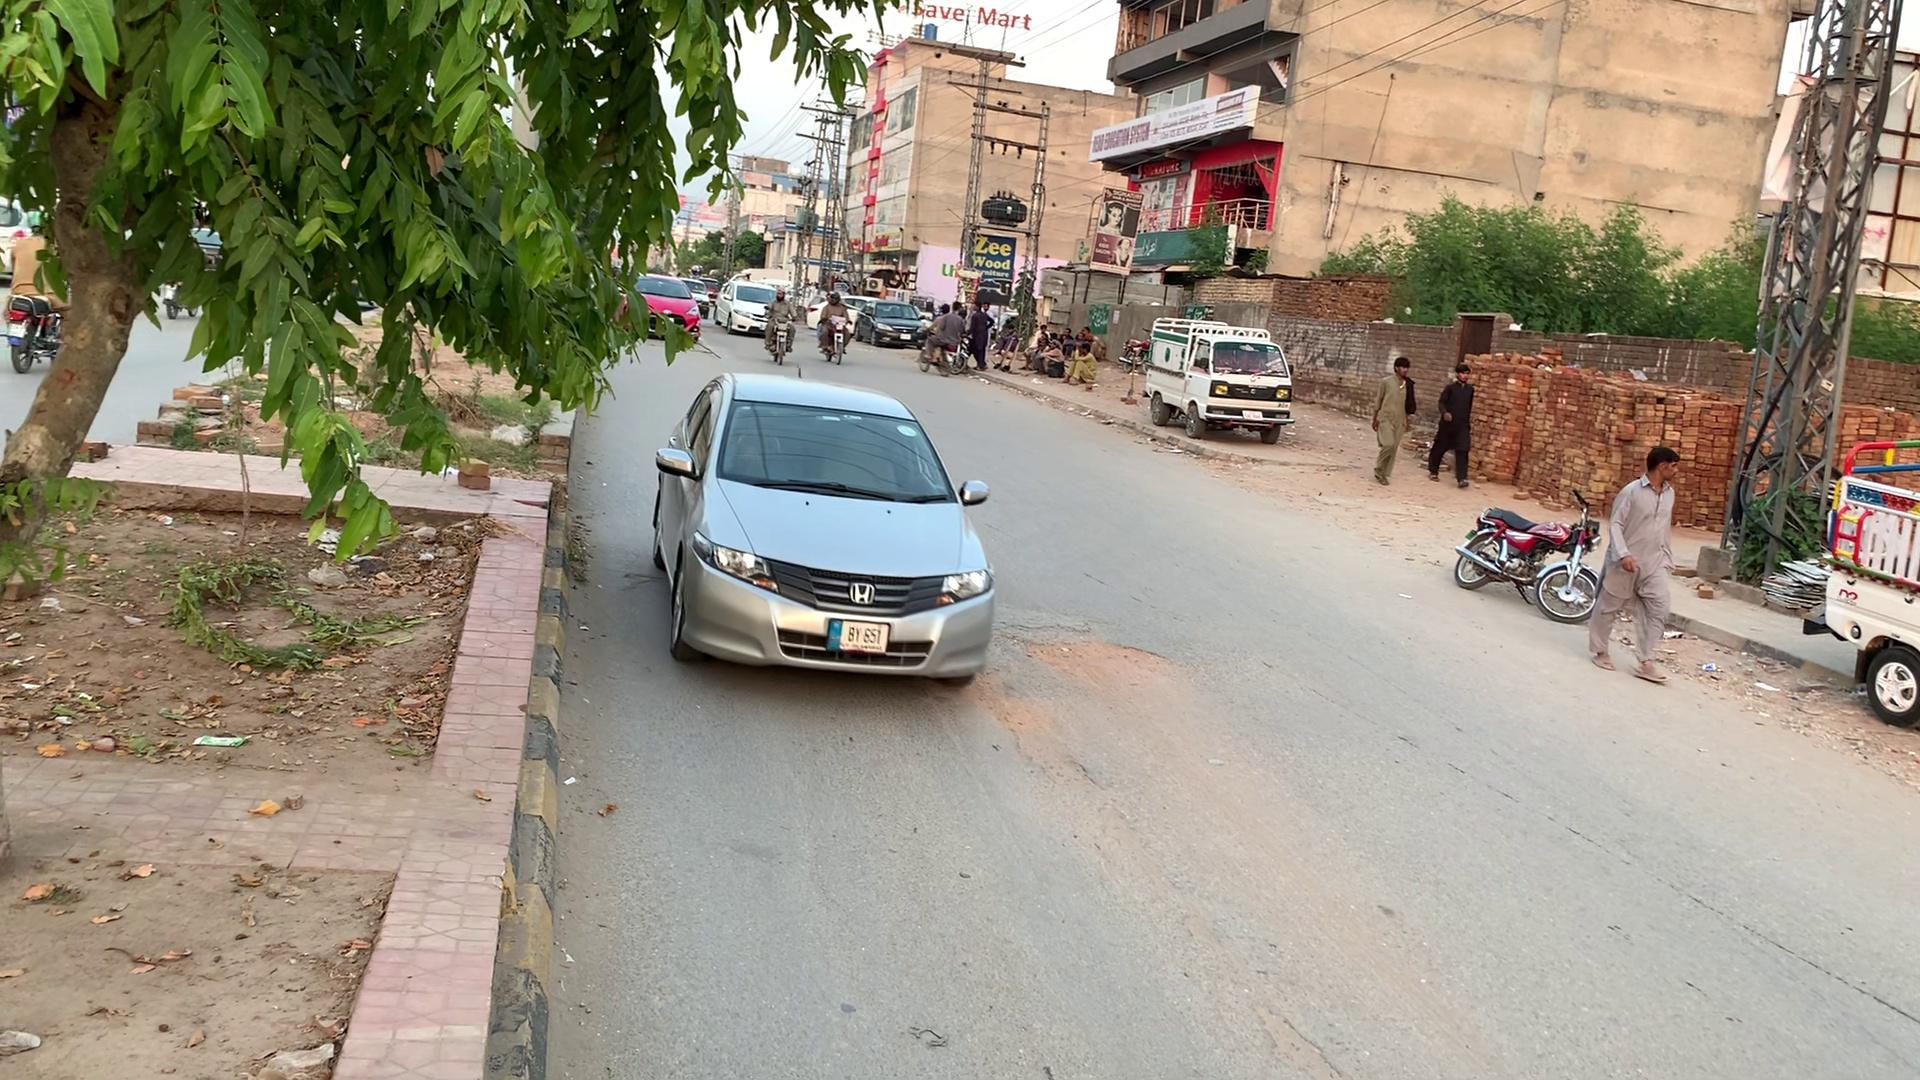windshield: (702, 390, 959, 501)
